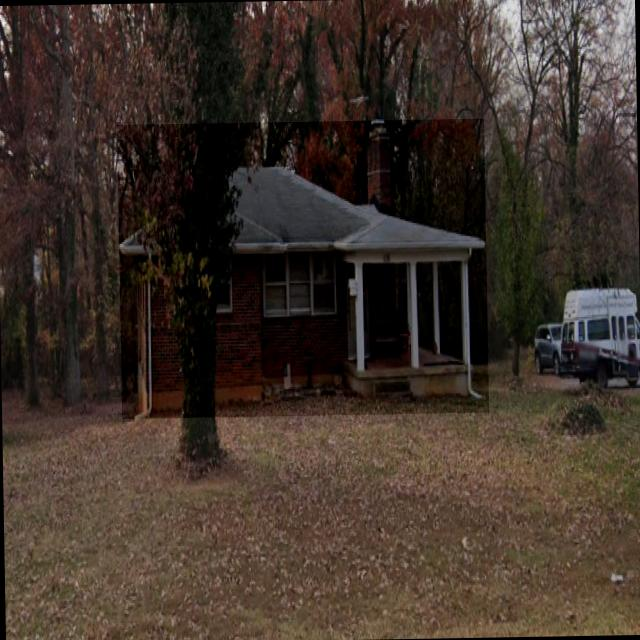House: (116, 118, 488, 419)
